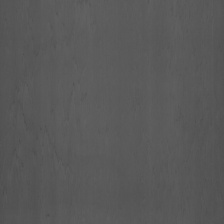silk_spot: (10, 38, 85, 192)
